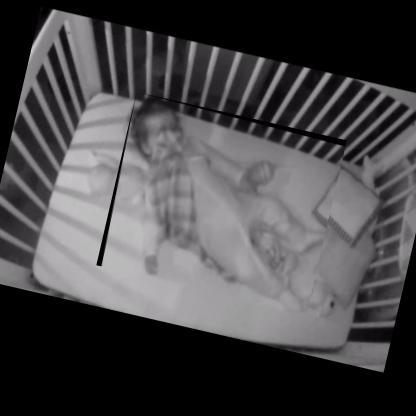baby: (132, 96, 324, 312)
